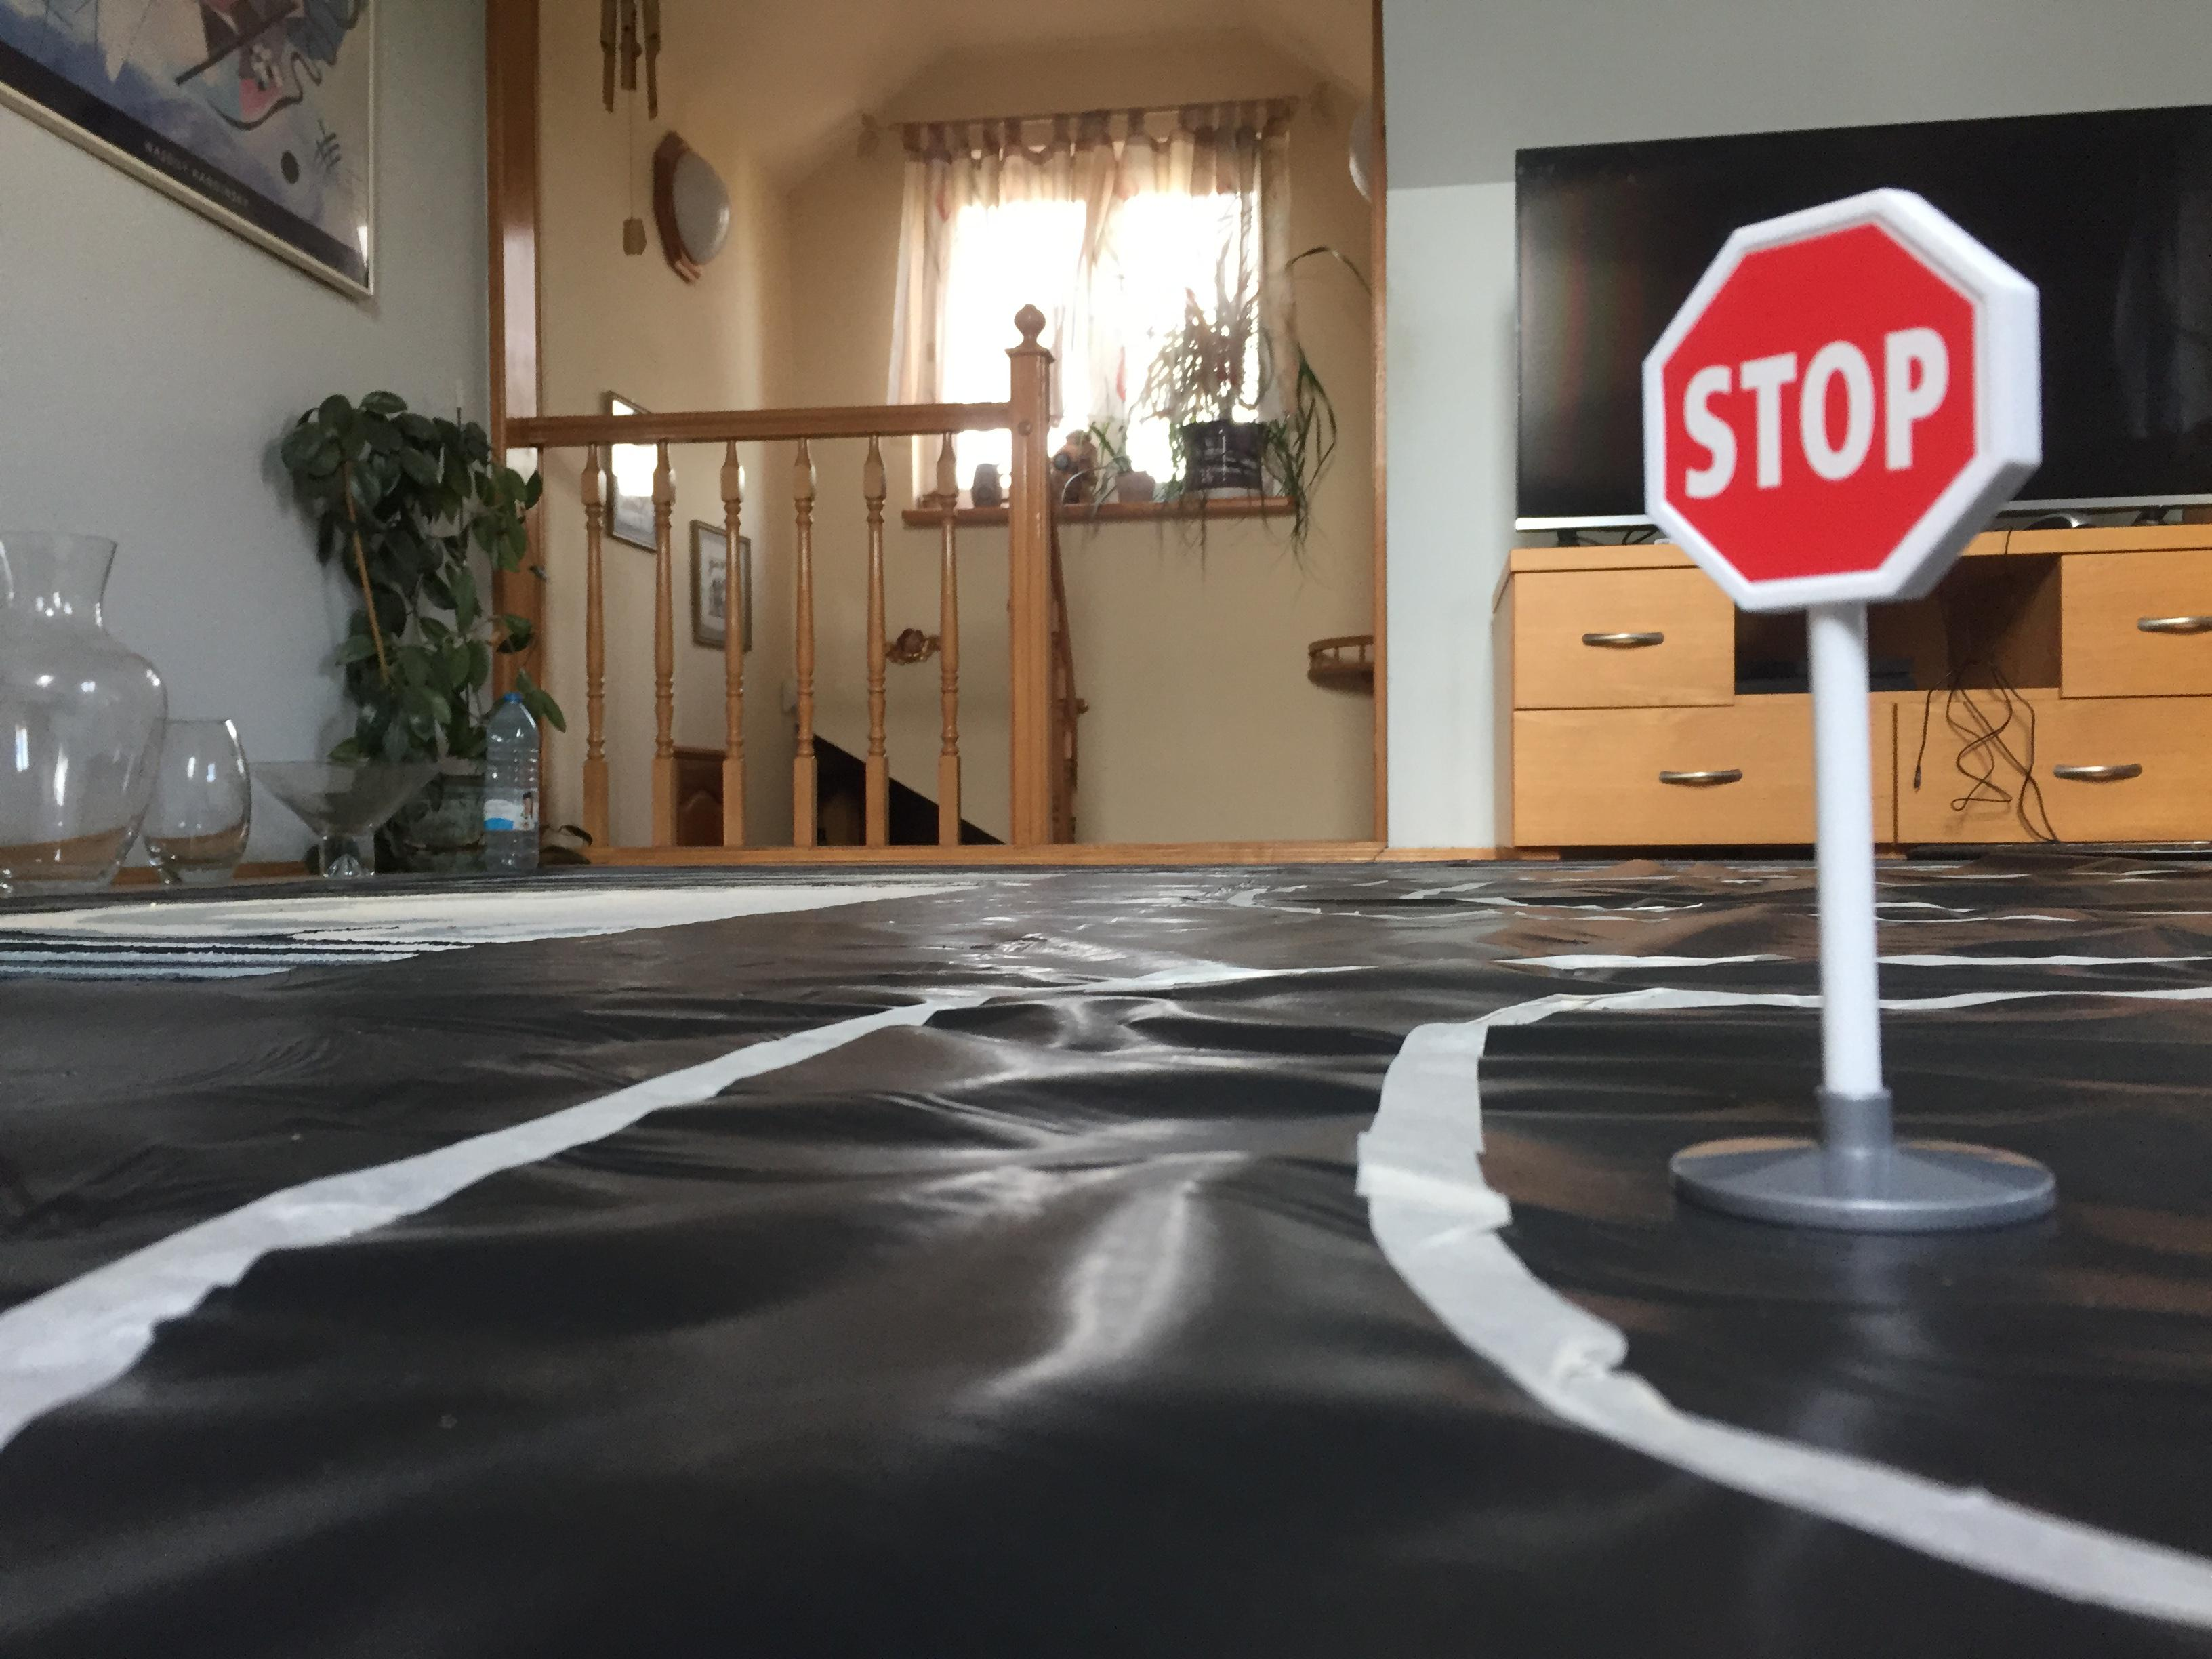stop: (1622, 183, 2064, 631)
